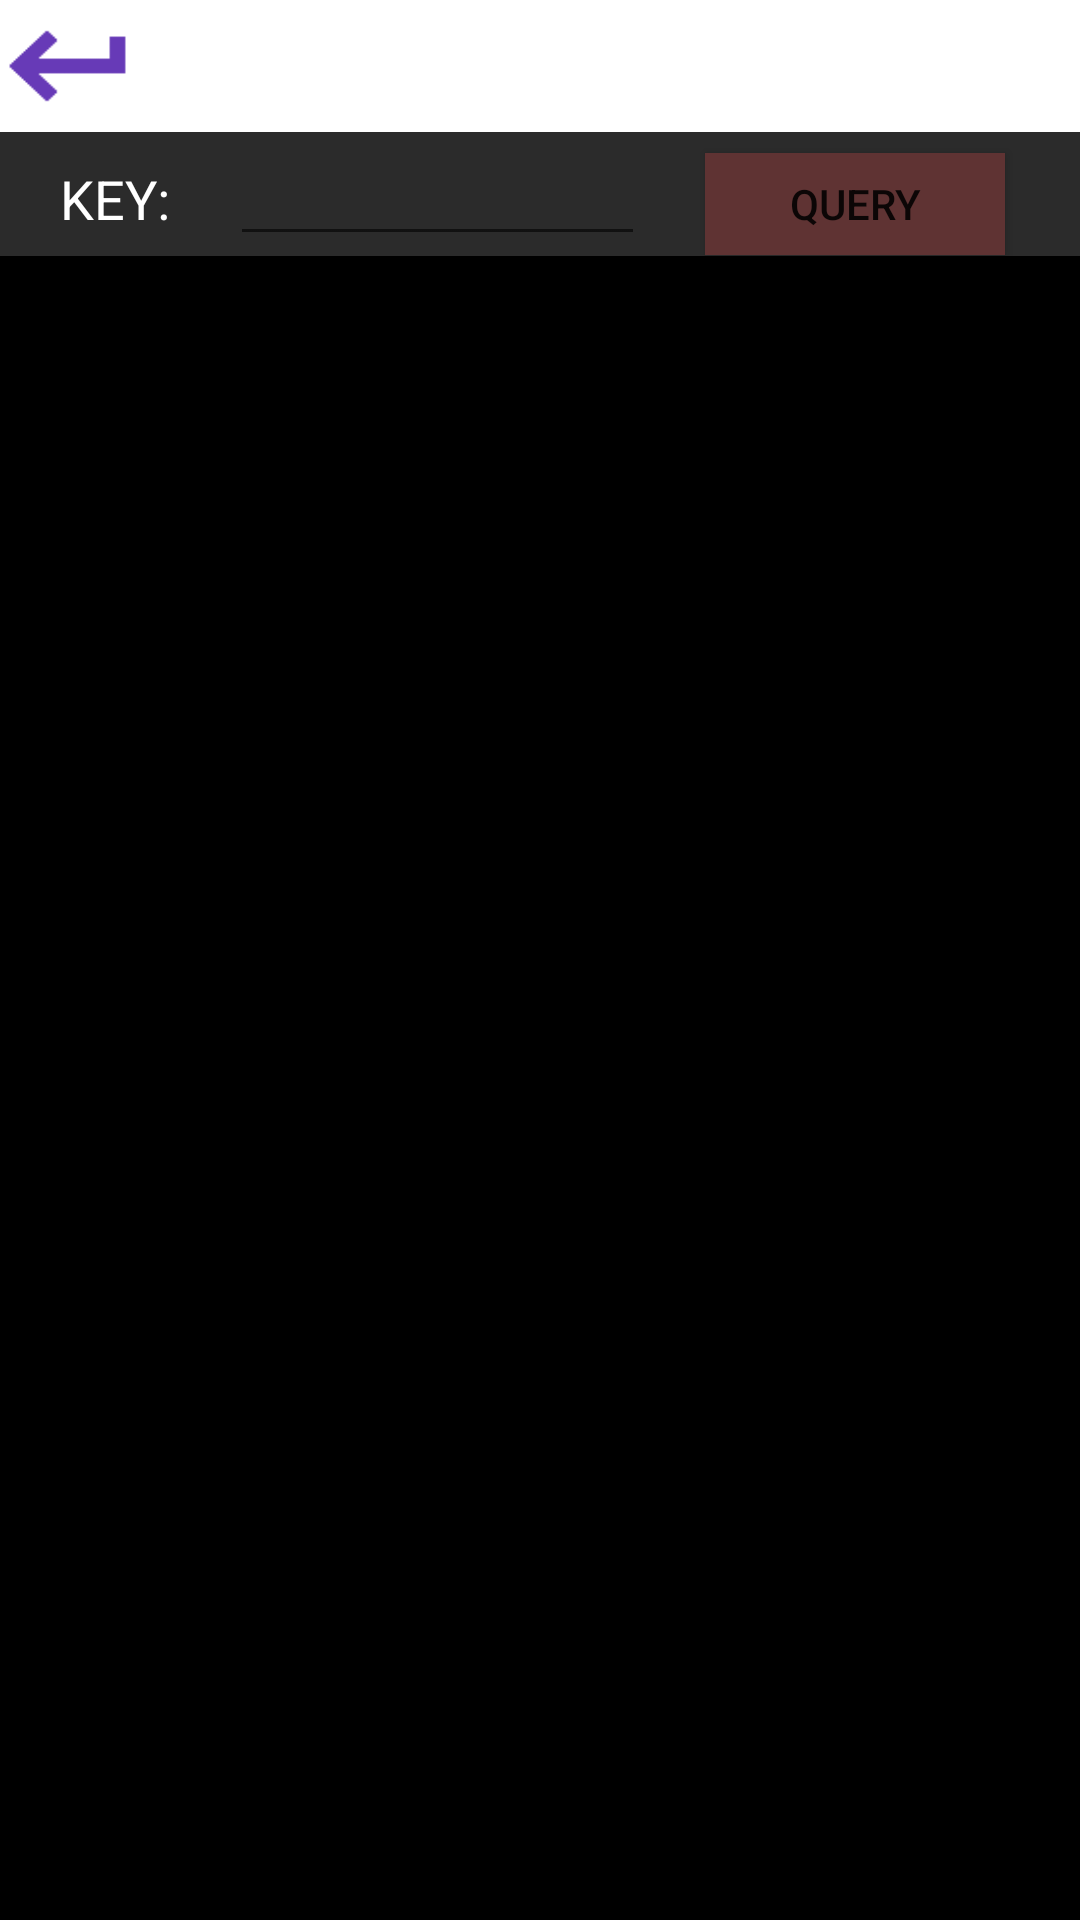

Screen size 1080px×1920px. Icon name, then its center in pixels as (x,y):
return button: (67,66)
